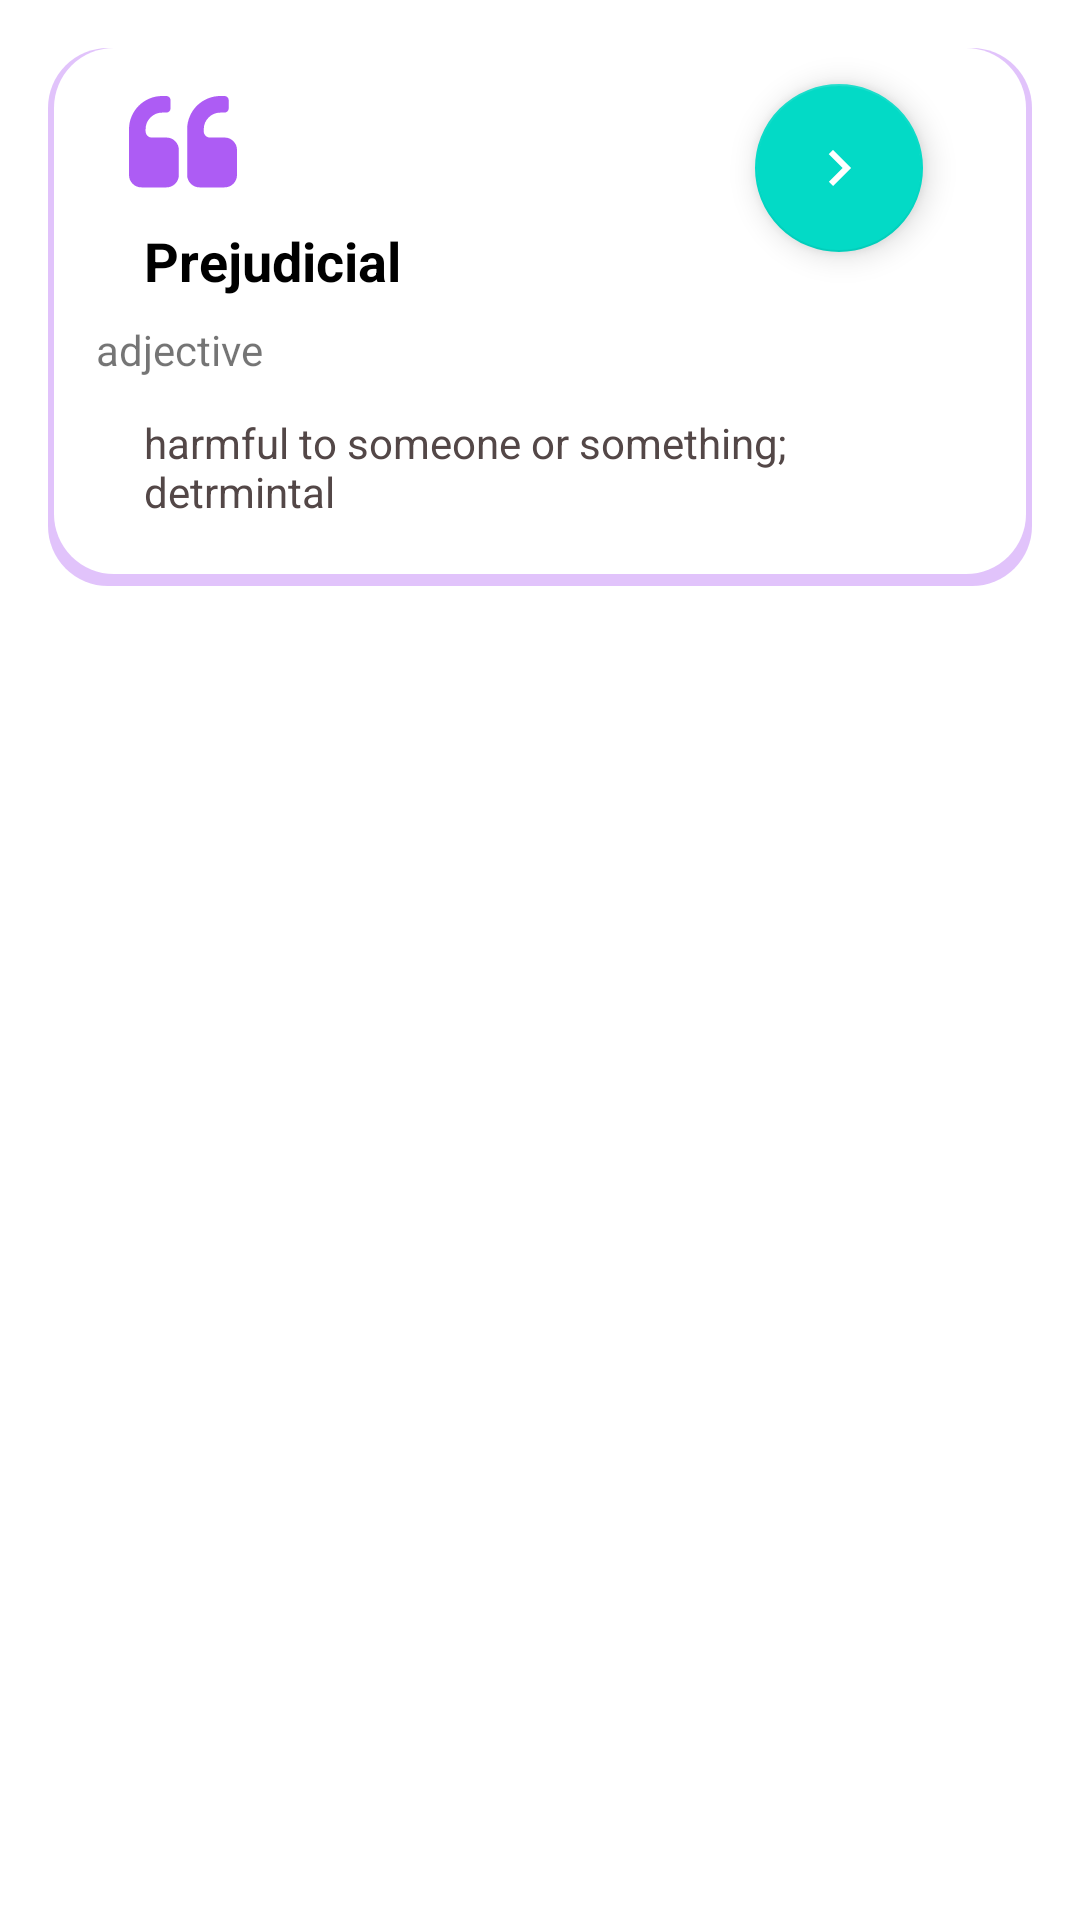

Icons on this 1080*1920 Android screen, each with the point to tap as [x,y]:
keyboard arrow right: [839,168]
quoteleft: [183,142]
